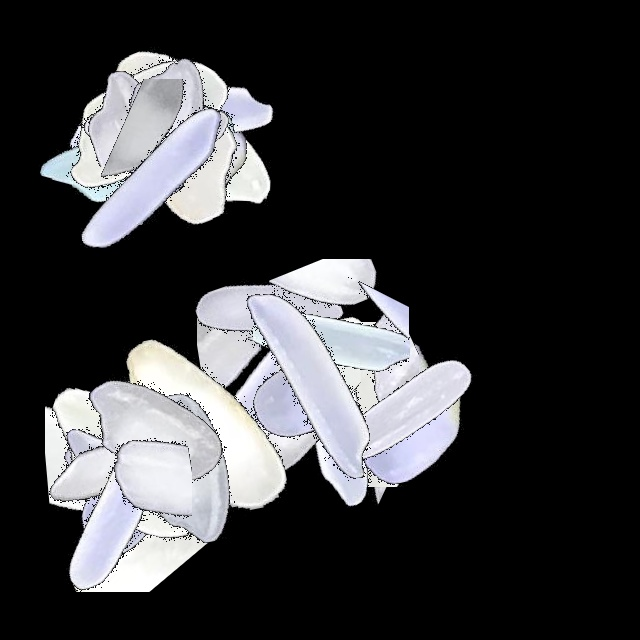Broken: (250, 280, 423, 530), (194, 322, 444, 487), (253, 167, 410, 417), (0, 363, 250, 514), (0, 17, 250, 167), (52, 359, 192, 609), (197, 214, 335, 464), (0, 374, 250, 508), (0, 460, 250, 592), (61, 79, 311, 210), (210, 259, 460, 389), (290, 244, 419, 494), (292, 254, 542, 377), (283, 306, 405, 556), (45, 325, 156, 575), (300, 215, 409, 465), (119, 0, 226, 250), (277, 243, 382, 493), (0, 388, 250, 493), (264, 238, 361, 488), (188, 325, 438, 417), (0, 357, 250, 437), (141, 124, 216, 374)
Full: (21, 332, 271, 582), (214, 283, 464, 533), (64, 9, 314, 259), (31, 347, 281, 597), (288, 304, 538, 554), (0, 332, 250, 582), (66, 35, 316, 285), (0, 382, 250, 632), (43, 0, 293, 250), (135, 273, 385, 523), (0, 305, 250, 555), (178, 266, 428, 516), (13, 26, 263, 276), (53, 8, 303, 258), (16, 0, 266, 250), (33, 0, 283, 250), (5, 340, 255, 590), (45, 3, 295, 253), (142, 184, 392, 434), (80, 300, 330, 550), (282, 286, 532, 536), (0, 347, 250, 597), (0, 369, 250, 619), (61, 343, 311, 593), (28, 306, 278, 556), (27, 54, 277, 304), (184, 262, 434, 512)
